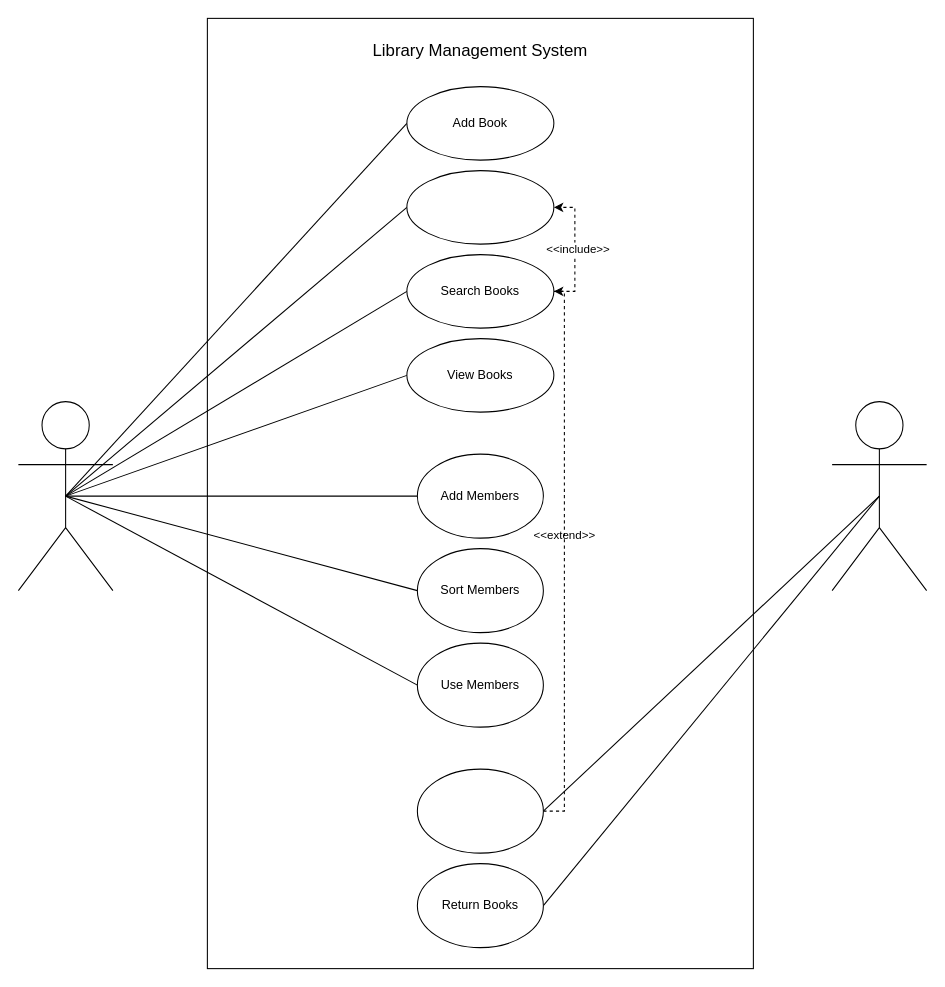
This 945x987 diagram has some shape labels left out. Here are the shapes that lost their labels. From the top down, the box of each, then its label:
(406, 170, 554, 244): Sort Books
(17, 401, 113, 591): Librarian/Staff
(831, 401, 927, 591): Member
(416, 768, 543, 853): Borrow Books
